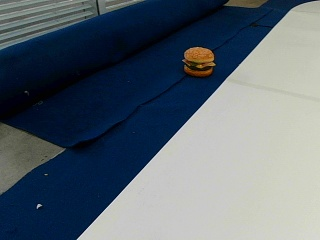burger: (182, 45, 214, 75)
